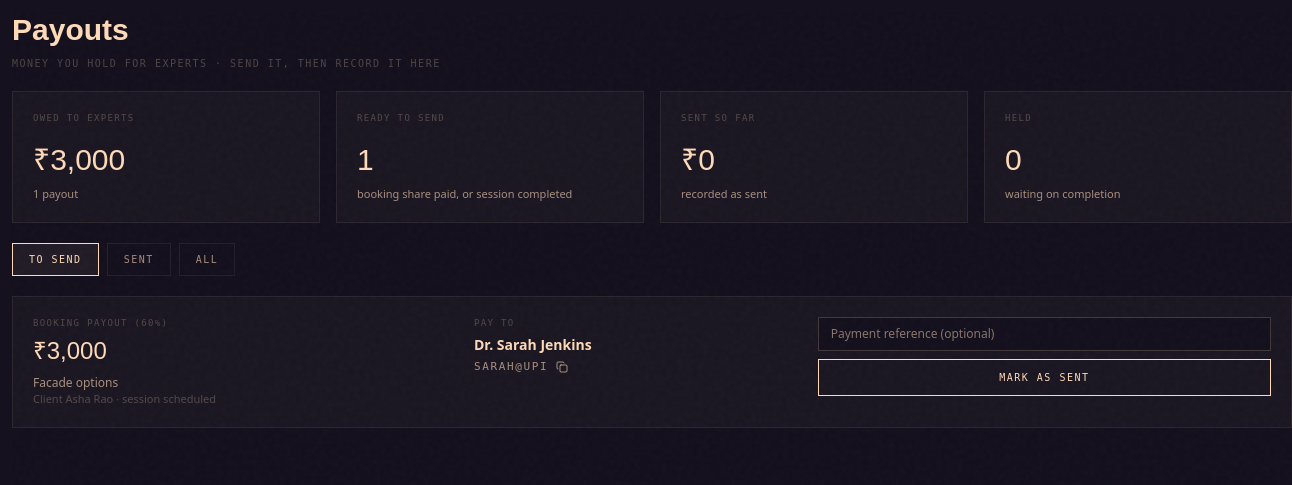
Test: Admin / Payouts › shows the database's reason when recording fails, and keeps the row
Click the button "MARK AS SENT": (1044, 378) [818, 359, 1271, 396]
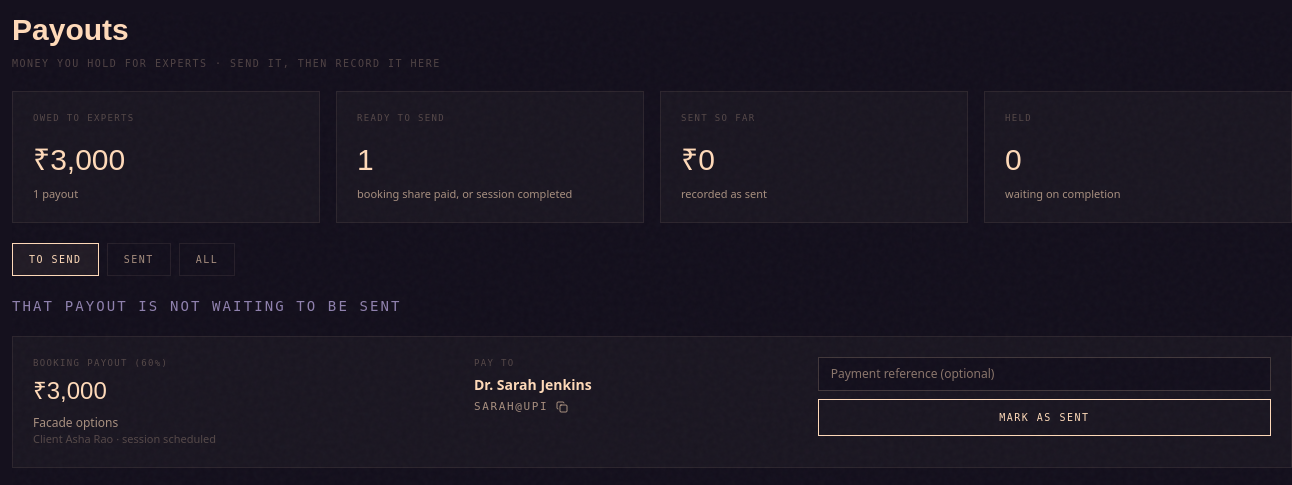
expect the button "MARK AS SENT" is shown: met, box [818, 399, 1271, 436]
expect the message shows "not waiting to be sent": met, box [12, 298, 402, 314]
